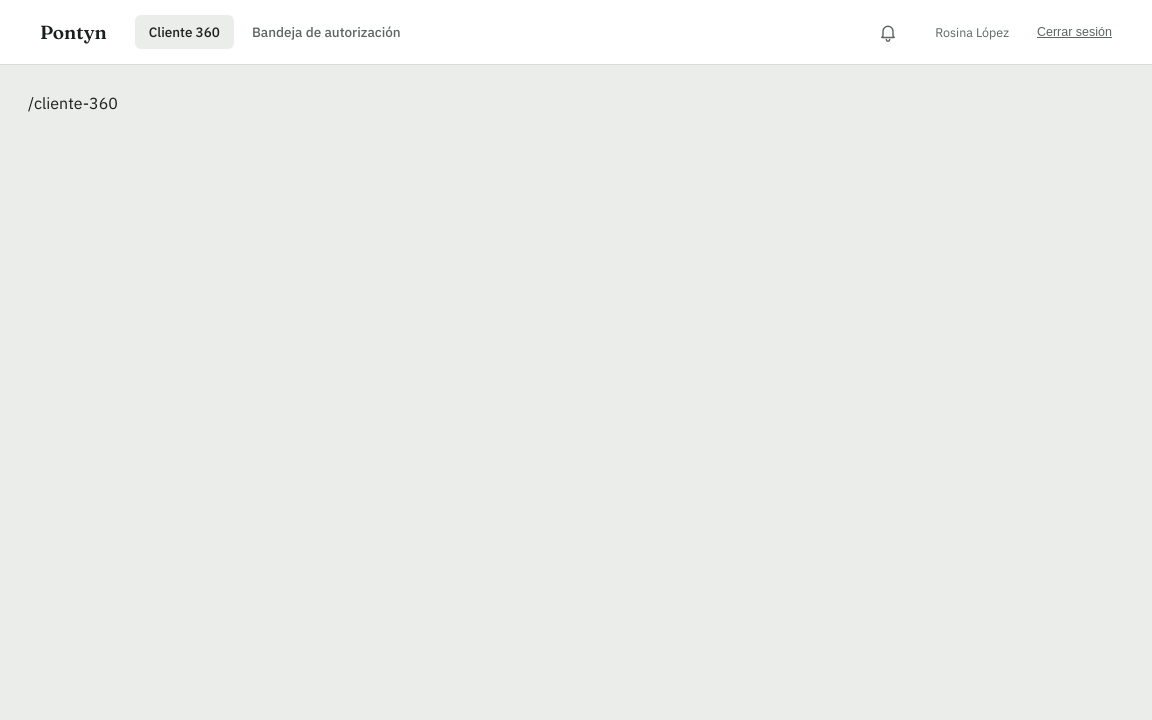
Test: AppShell — campana de alertas › se cierra con clic afuera
The image size is (1152, 720).
Click the button named "Alertas" at point(888, 32), box [869,13,907,51]
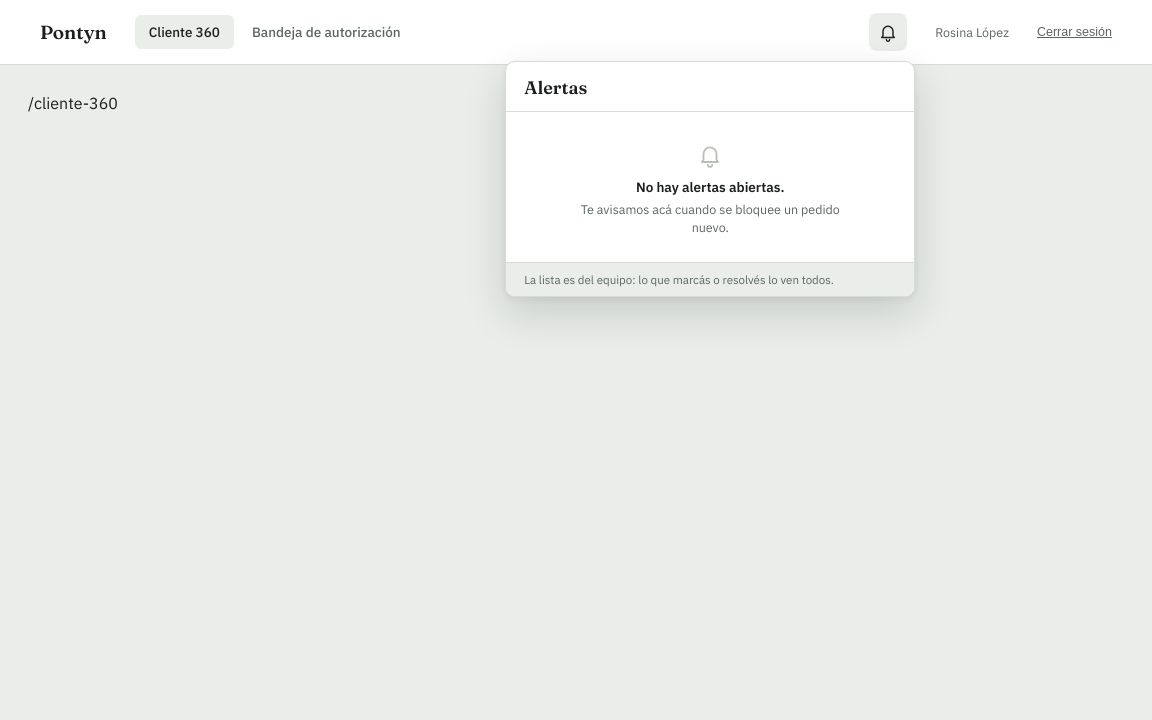
Now the dialog is shown, box [505,61,915,297]
Press the mouse on the text with test id "ubicacion" at point(73, 103), box [28,93,118,113]
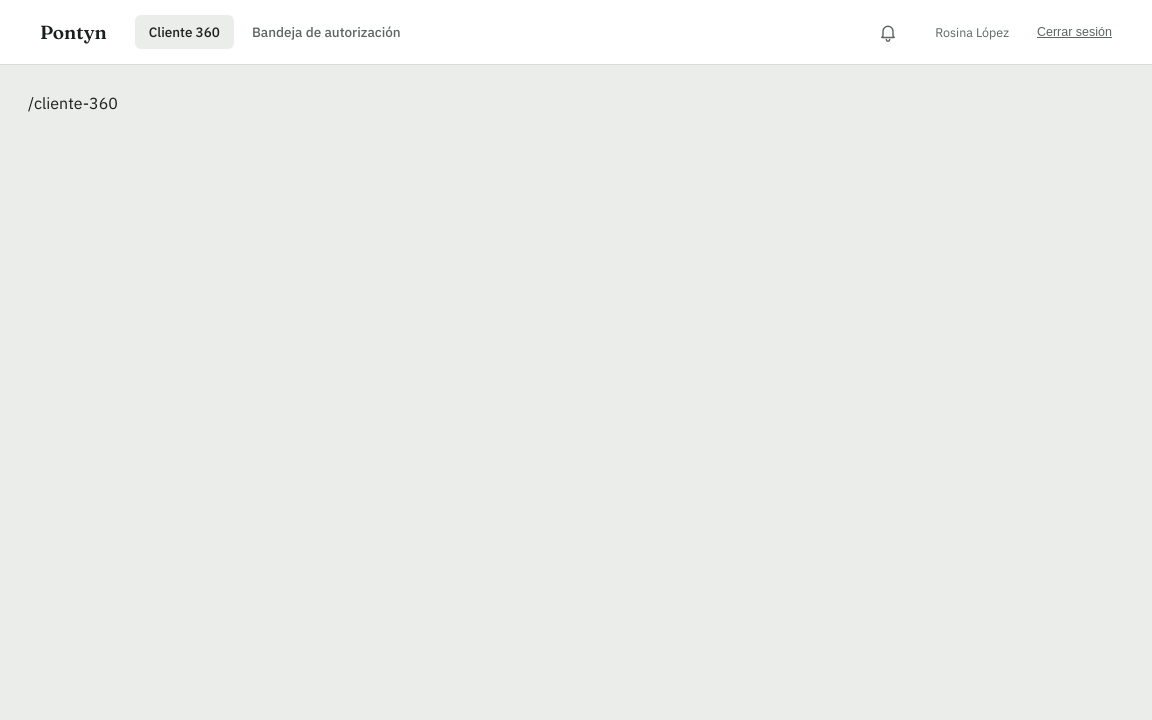
Now the dialog is gone
